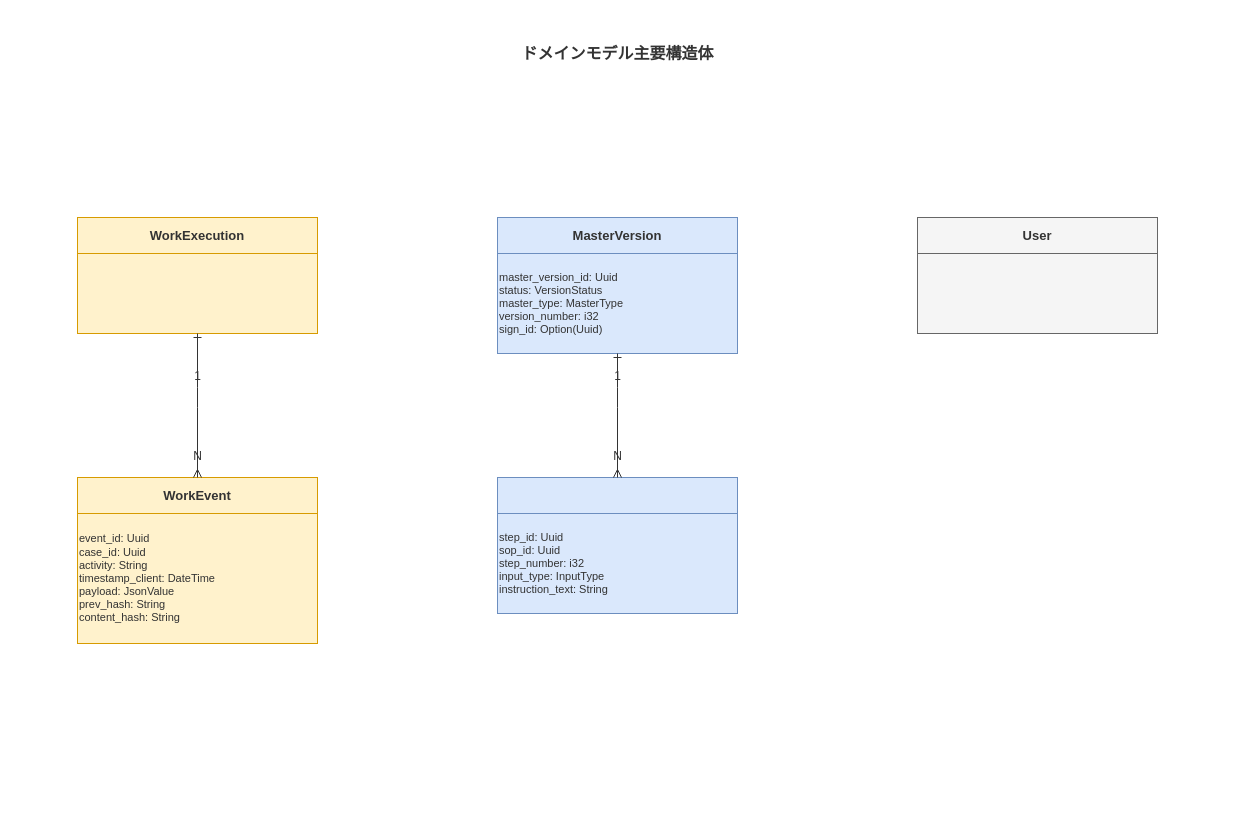
The diagram is 1234 pixels wide and 834 high, and some of its shapes have lost their labels. Here are the shapes that lost their labels. From the top down, the centre of each, then its label:
(197,293): id: Uuid status: WorkStatus sop_version_id: Uuid primary_worker_id: Uuid
(1037,293): user_id: Uuid login_id: String display_name: String roles: Vec(Role)
(617,495): Step
